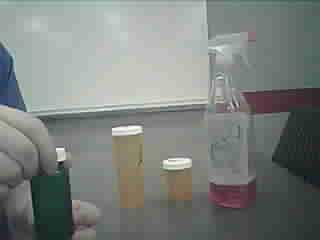Bottle A: (110, 120, 150, 217)
Bottle B: (158, 153, 200, 208)
Bottle C: (22, 143, 79, 240)
hazard: (197, 33, 278, 211)
